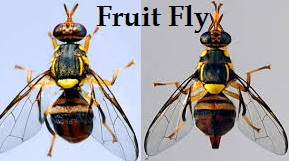Fruit fly: (154, 8, 270, 161), (14, 9, 134, 153)
